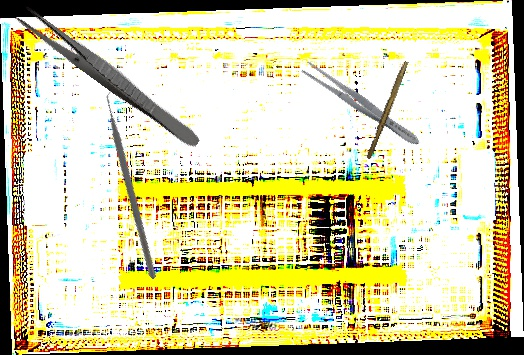Chopper: (35, 83, 234, 280)
Dressing Forceps: (13, 3, 206, 151), (299, 58, 424, 151)
Scalpel Handle: (365, 59, 409, 161)
